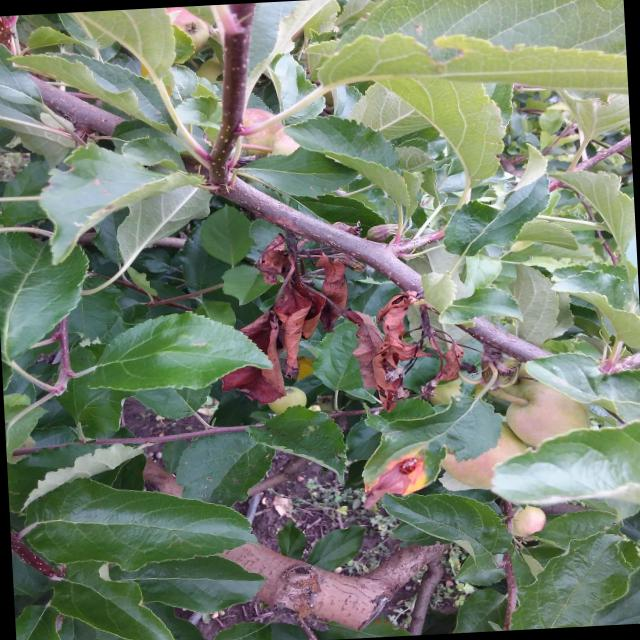-FireBlight-: (203, 233, 471, 423)
